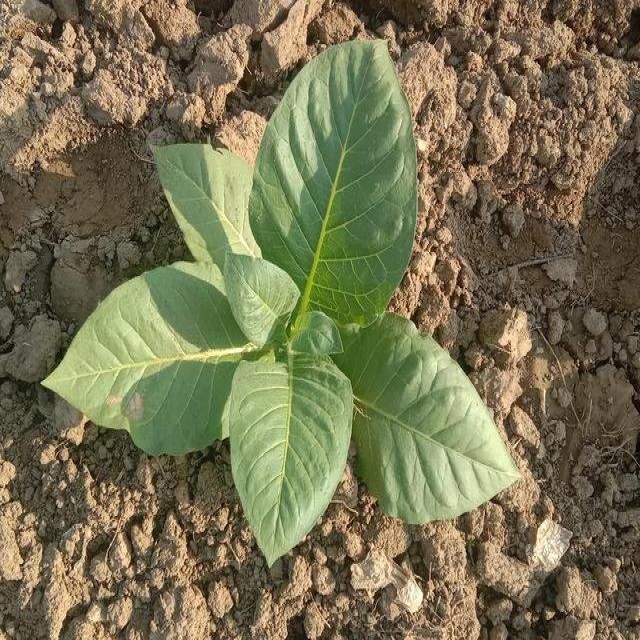crop: (42, 36, 526, 573)
